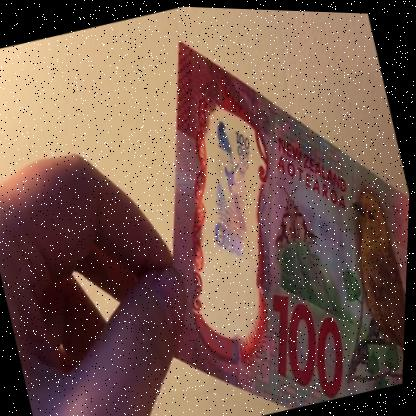100B: (183, 107, 292, 290)
